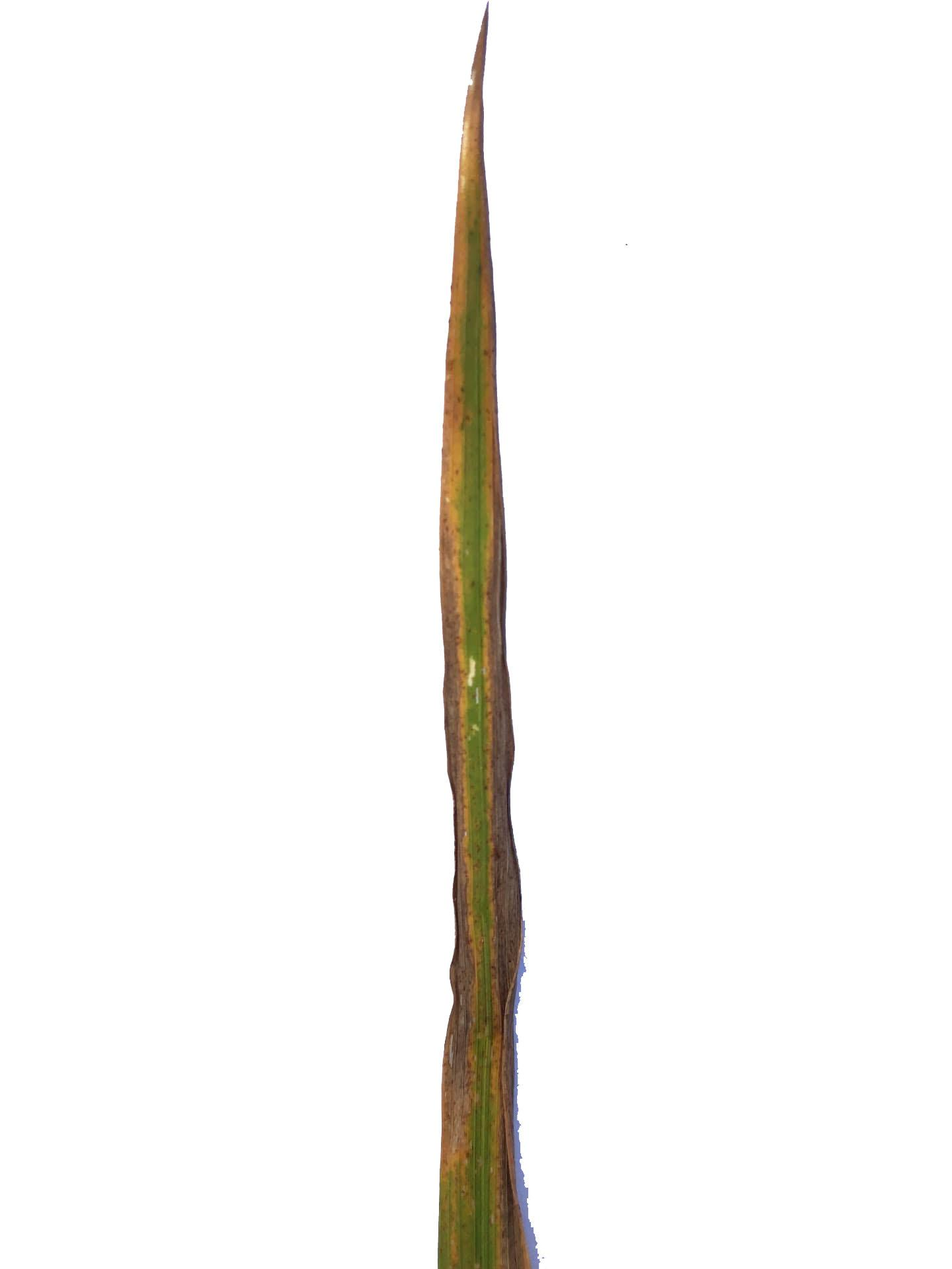Rice blast: (437, 8, 541, 1269)
